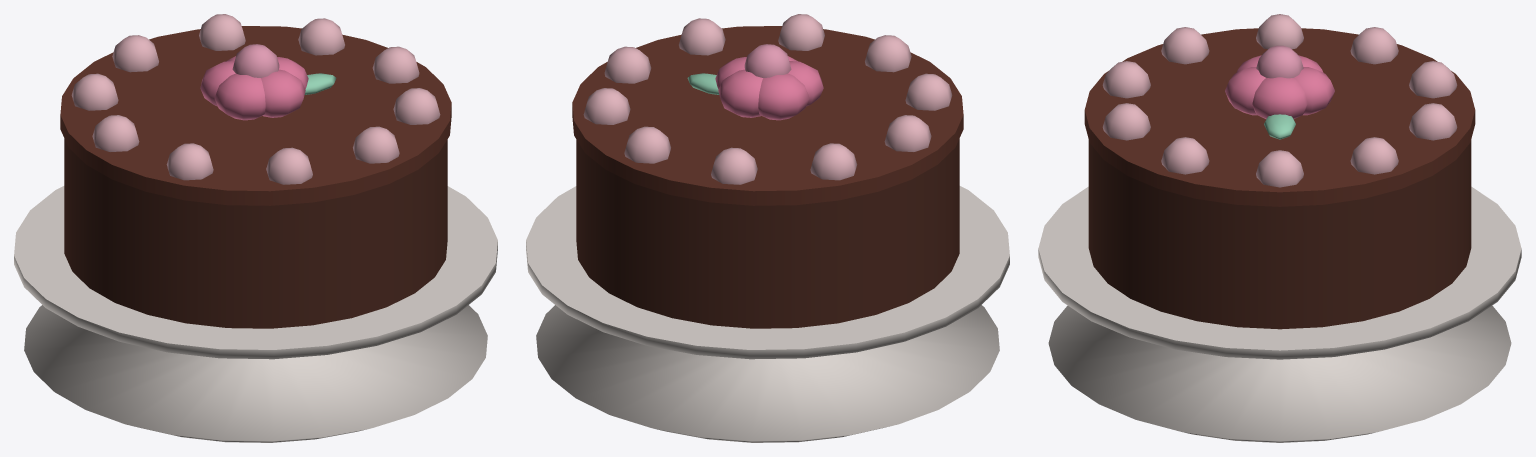
Rendered from dinner_torte.glb.
3 renders of one model, left to right at view 1: azimuth 30°, elevation 25°; view 2: azimuth 150°, elevation 25°; view 3: azimuth 270°, elevation 25°, orthographic.
Parts seen in each view (by area): view 1: dinner_torte; view 2: dinner_torte; view 3: dinner_torte.
Boxes of the visible parts, x1,y1,x2,y2 form: dinner_torte: [14, 14, 497, 442]; dinner_torte: [526, 14, 1009, 442]; dinner_torte: [1038, 14, 1521, 442].
Size of what is drawn, in the model's own units: 0.24 by 0.17 by 0.24.
